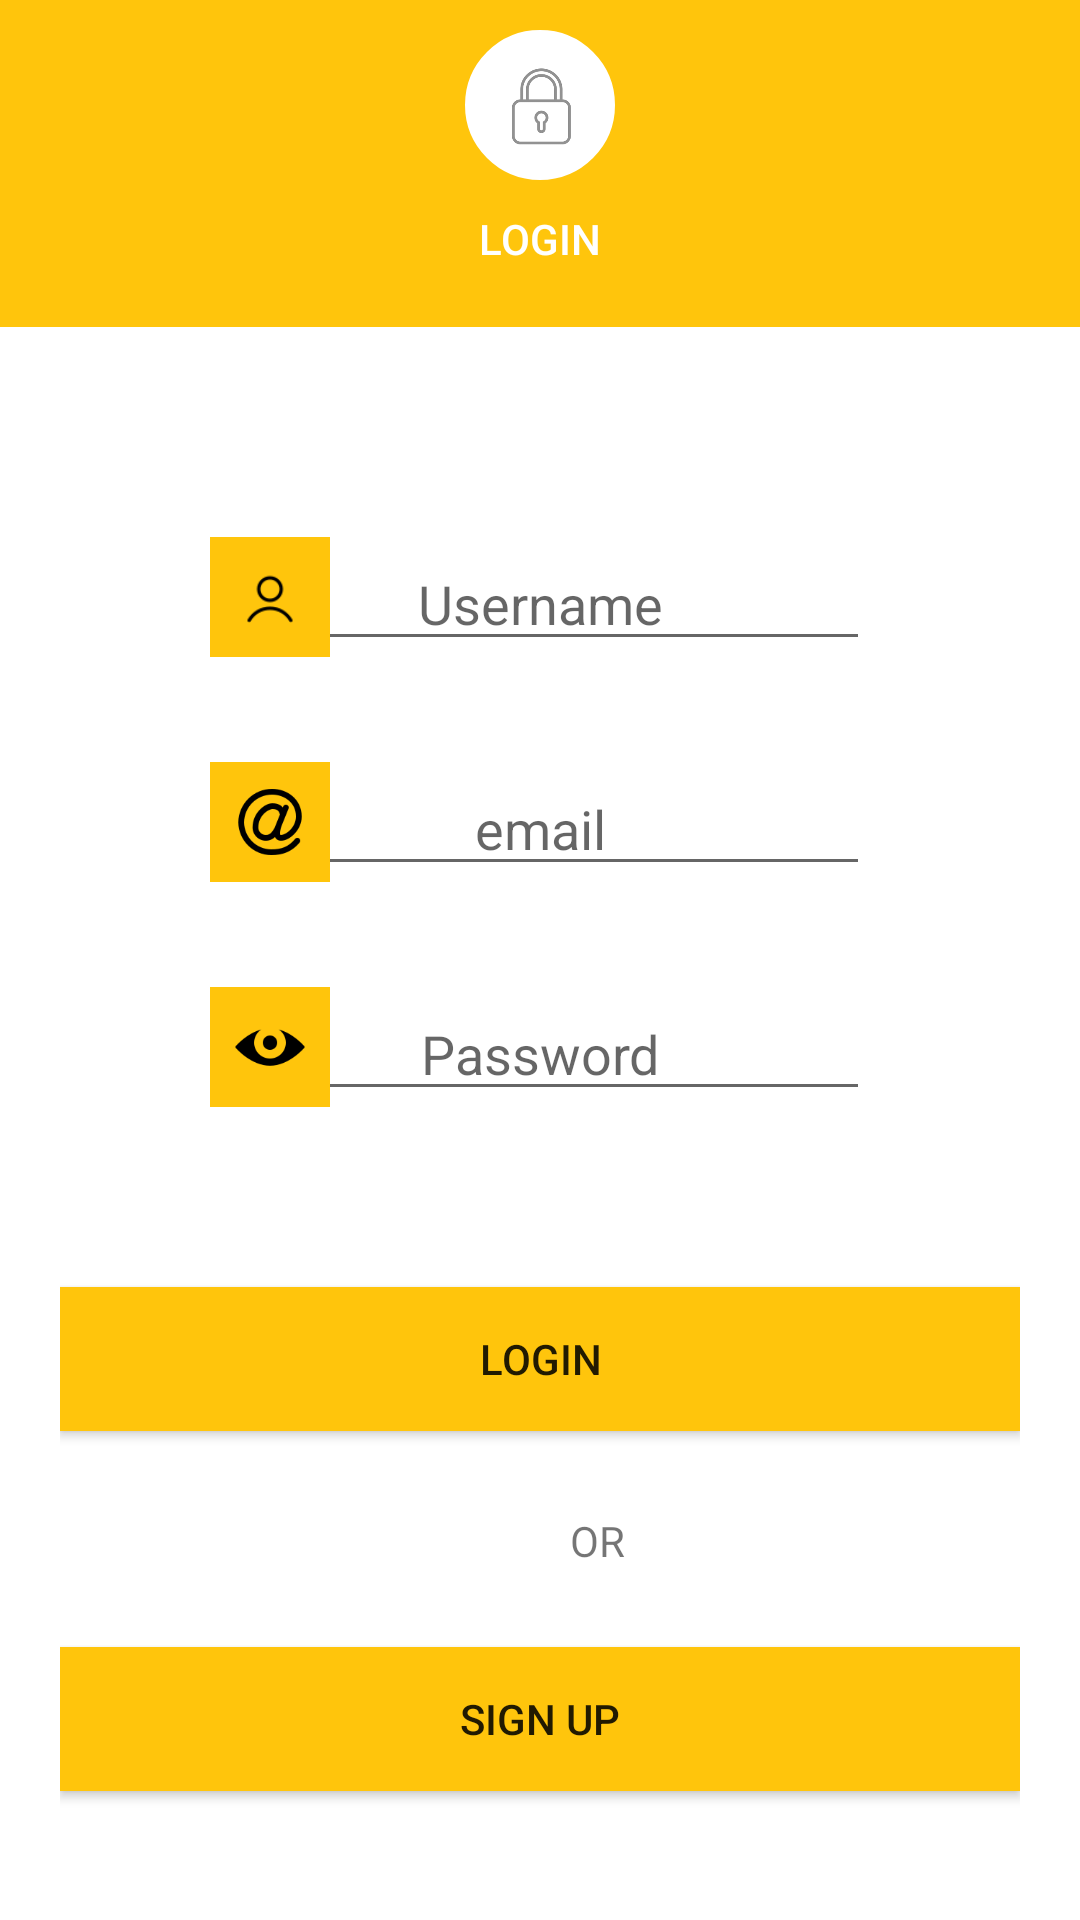

Icons on this 1080×1920 Android screen, each with its box as box(x1, y1, x2, y2):
lock: box(465, 30, 615, 180)
